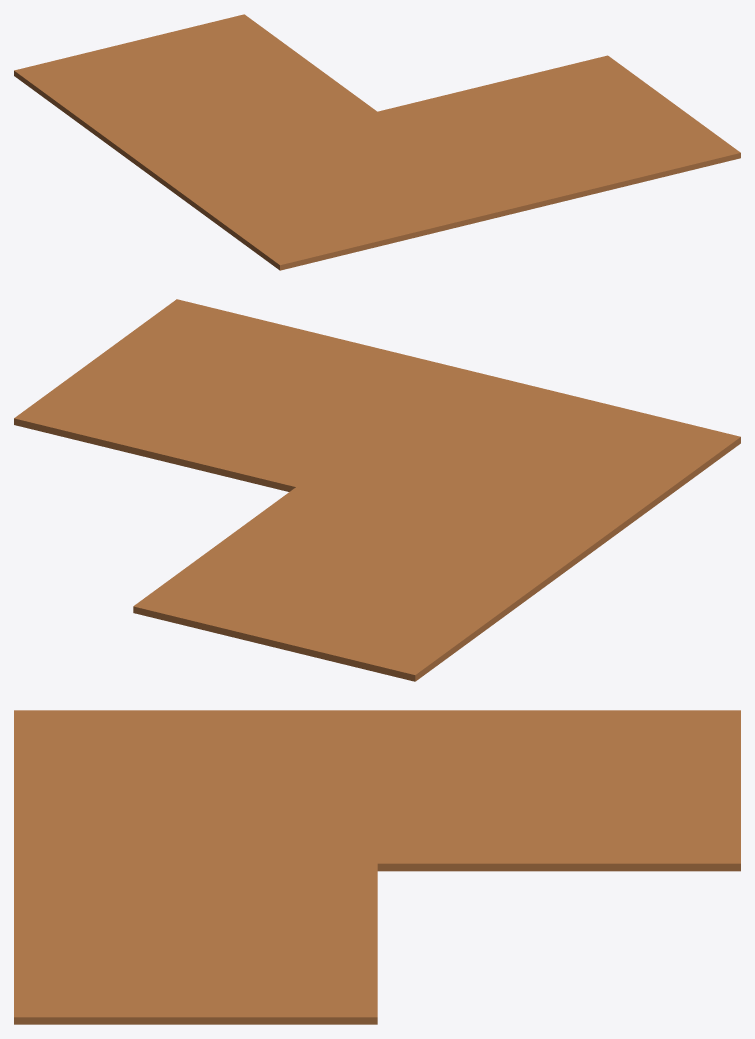
Rendered from room extension.fbx.
The picture shows the model from 3 angles, top to bottom: view 1: azimuth 30°, elevation 25°; view 2: azimuth 150°, elevation 25°; view 3: azimuth 270°, elevation 25°; orthographic projection. The views are drawn at different scales.
Visible parts, largest first — view 1: Floor extension; view 2: Floor extension; view 3: Floor extension.
Boxes of the visible parts, box(x1,y1,x2,y2) form: Floor extension: box(14, 14, 740, 270); Floor extension: box(14, 299, 740, 681); Floor extension: box(14, 710, 740, 1024).
Size of the model in its own units: 890 by 10 by 890.
